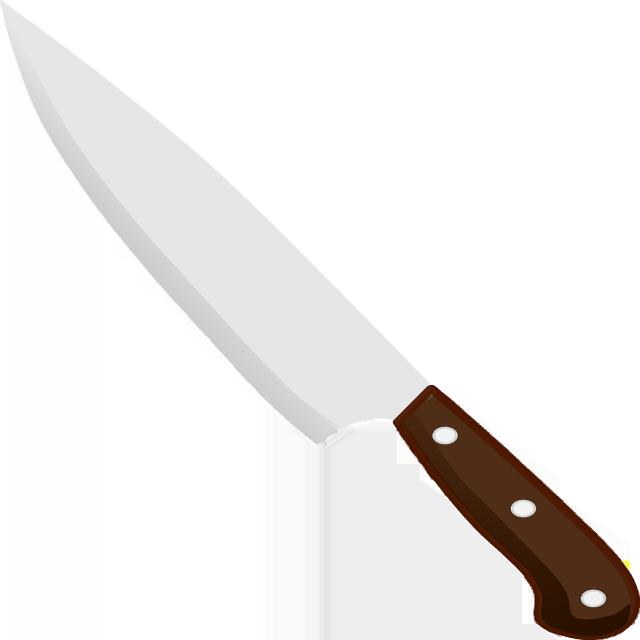Knife: (3, 3, 639, 640)
